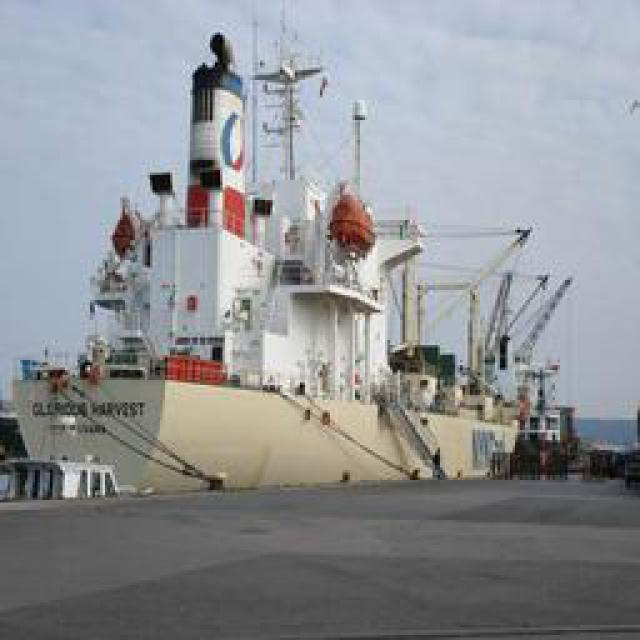Ship: (12, 24, 627, 496)
